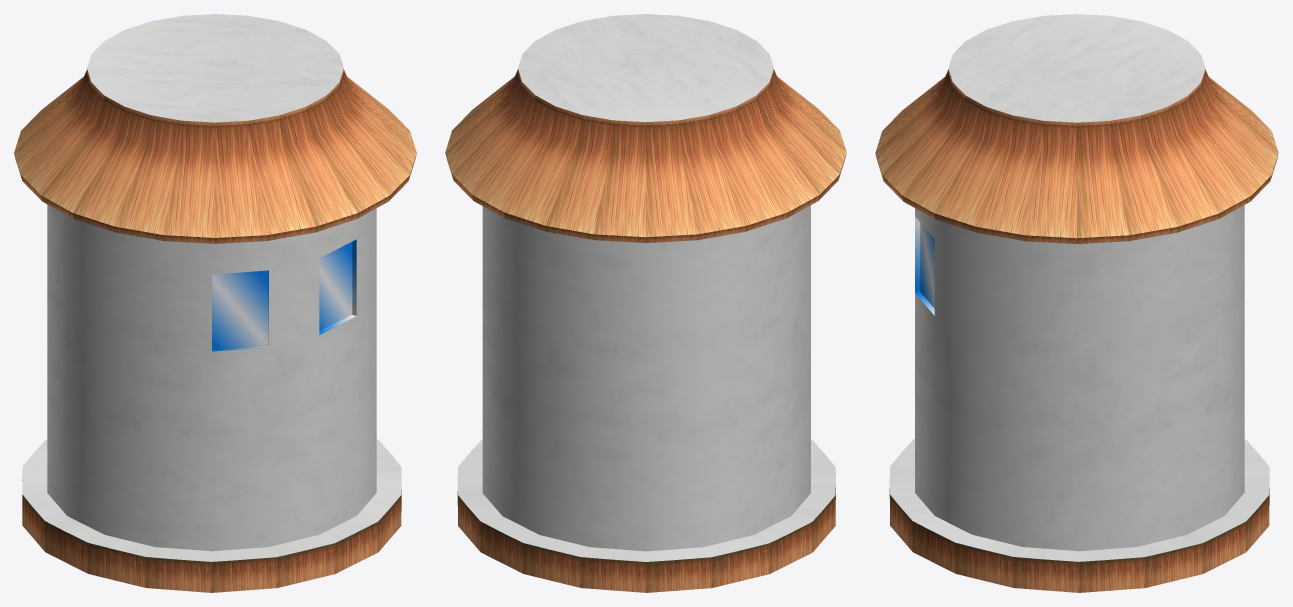
The model's file is KonohagakureTower_2.FBX.
3 views of the same model, side by side, from view 1: azimuth 30°, elevation 25°; view 2: azimuth 150°, elevation 25°; view 3: azimuth 270°, elevation 25° (orthographic).
Visible parts, largest first — view 1: Cylinder01; view 2: Cylinder01; view 3: Cylinder01.
Part boxes in pixels (x1,y1,x2,y2): Cylinder01: (14, 14, 416, 592); Cylinder01: (445, 14, 846, 592); Cylinder01: (875, 14, 1278, 592).
Bounding box in the file's own units: 80.09 × 80.09 × 97.37.
1 material, 1 textured.
